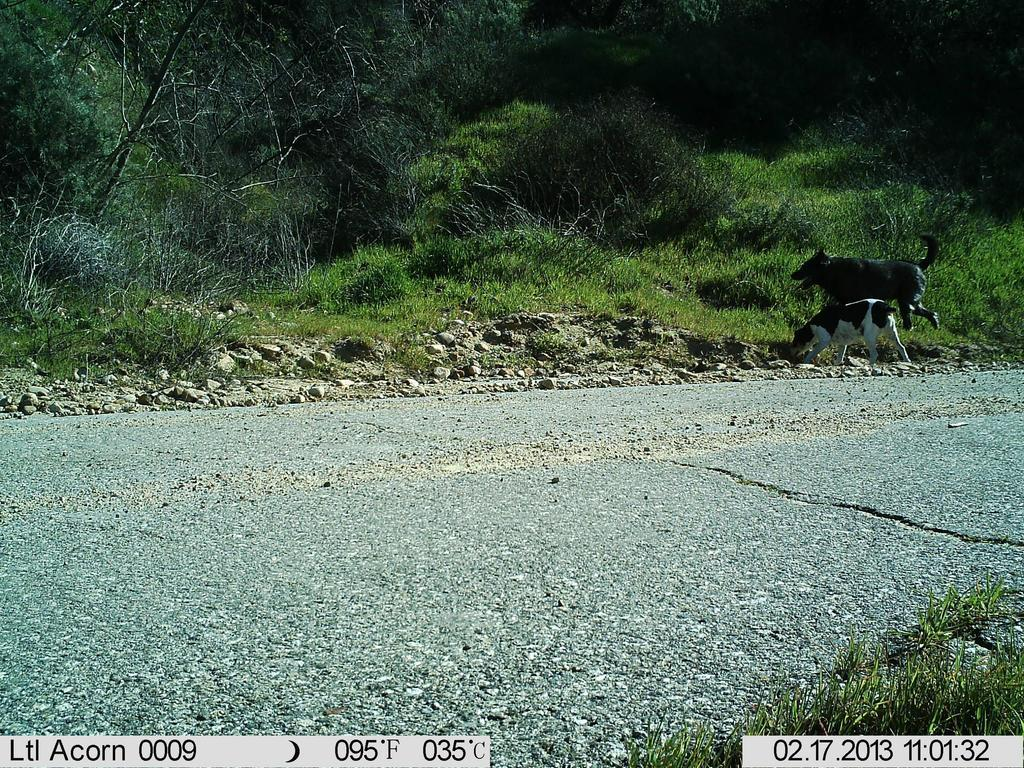dog: (793, 242, 940, 336), (777, 296, 909, 374)
